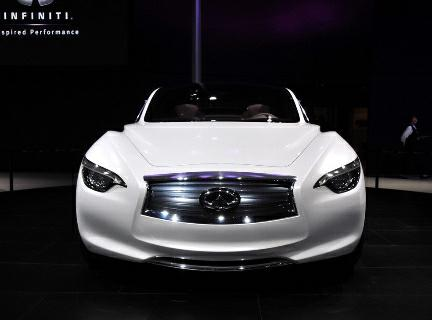英菲尼迪-Etherea: (56, 69, 382, 289)
